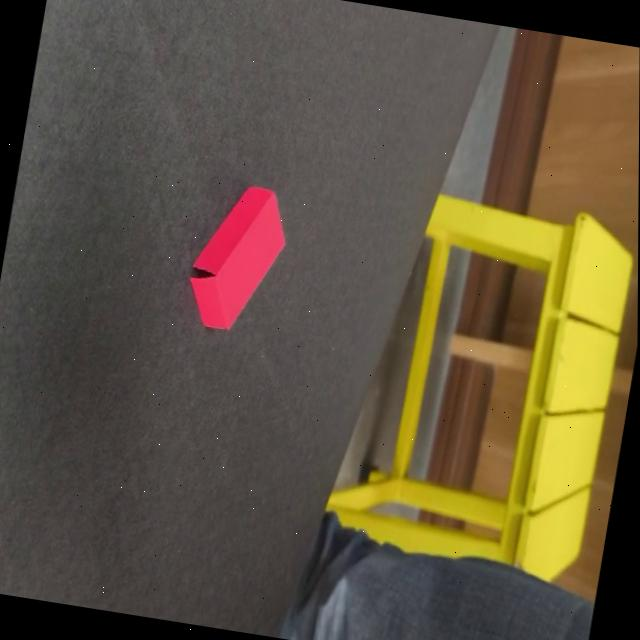red block: (182, 178, 295, 340)
